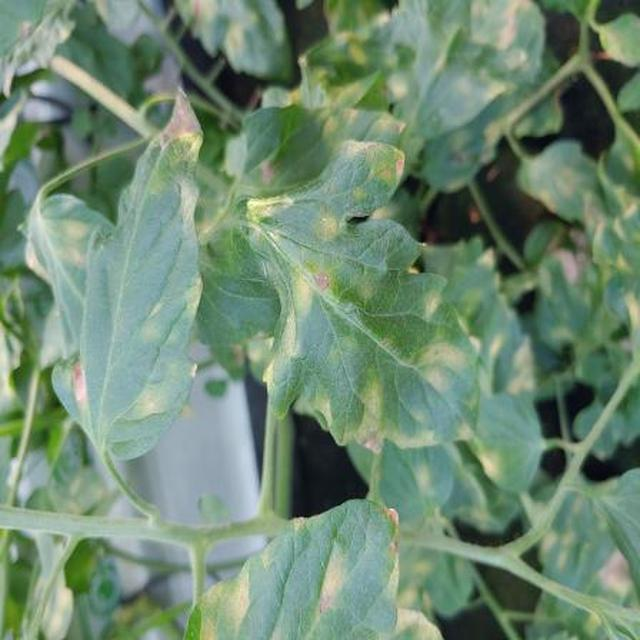Leaf Mold: (183, 387, 480, 531)
